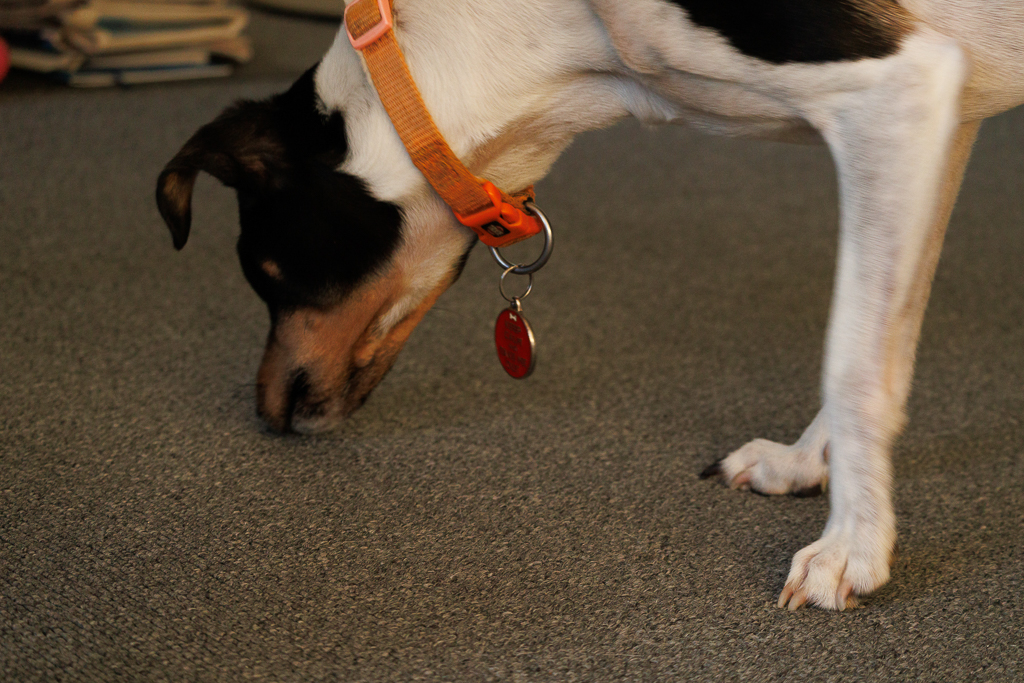Dog: (146, 0, 1023, 621)
